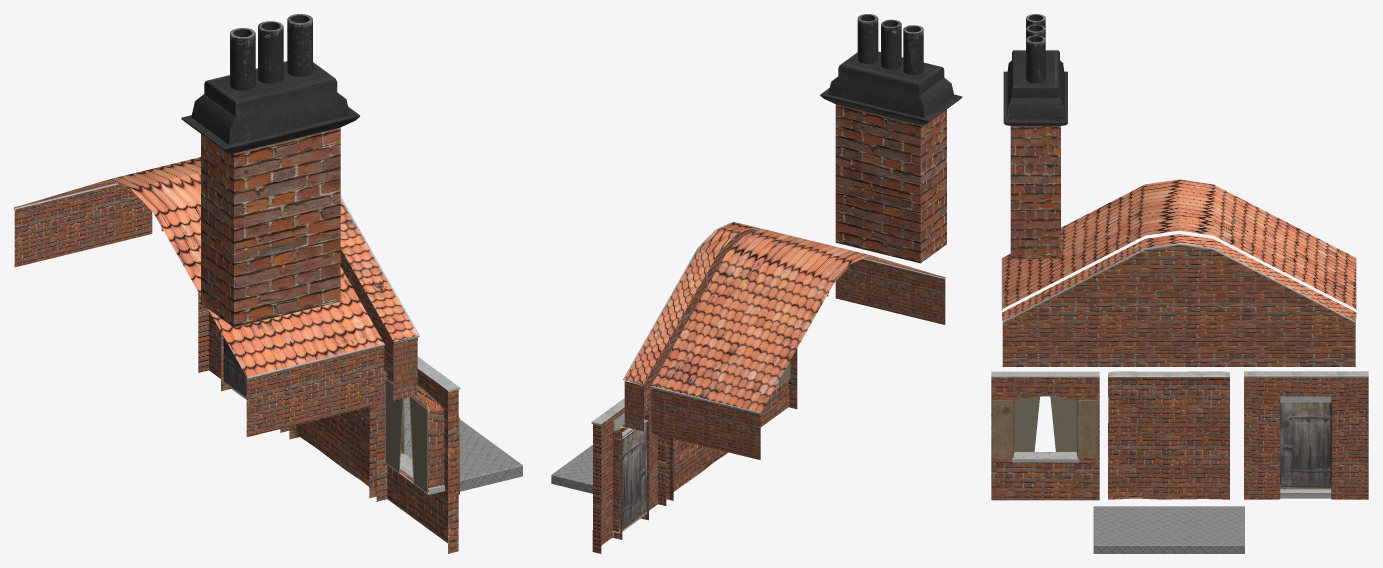
The model's file is modular_victorian_asset_pack.glb.
The picture shows the model from 3 angles, left to right: view 1: azimuth 30°, elevation 25°; view 2: azimuth 150°, elevation 25°; view 3: azimuth 270°, elevation 25°; orthographic projection. The views are drawn at different scales.
Parts seen in each view (by area): view 1: Chimney_chimney_0, ceiling_low_ceiling_0, wall_window_wall_window_mat_0, ceiling_end_ceiling_endmat_0, wall_low_wall_0, sidewalk_low_sidewalk_0, Door_overhead_wall_door_mat_0; view 2: ceiling_low_ceiling_0, Chimney_chimney_0, Door_overhead_wall_door_mat_0, ceiling_end_ceiling_endmat_0, wall_low_wall_0, wall_window_wall_window_mat_0, sidewalk_low_sidewalk_0; view 3: ceiling_end_ceiling_endmat_0, ceiling_low_ceiling_0, Door_overhead_wall_door_mat_0, wall_low_wall_0, wall_window_wall_window_mat_0, Chimney_chimney_0, sidewalk_low_sidewalk_0.
Part boxes in pixels (box(x1,y1,x2,y2)): Chimney_chimney_0: box(181, 14, 360, 327); ceiling_low_ceiling_0: box(14, 157, 384, 436); wall_window_wall_window_mat_0: box(376, 357, 460, 553); ceiling_end_ceiling_endmat_0: box(161, 196, 419, 400); wall_low_wall_0: box(289, 405, 376, 498); sidewalk_low_sidewalk_0: box(404, 397, 522, 491); Door_overhead_wall_door_mat_0: box(198, 292, 289, 432); ceiling_low_ceiling_0: box(650, 228, 945, 459); Chimney_chimney_0: box(820, 14, 962, 263); Door_overhead_wall_door_mat_0: box(591, 398, 666, 553); ceiling_end_ceiling_endmat_0: box(623, 222, 828, 431); wall_low_wall_0: box(666, 437, 728, 500); wall_window_wall_window_mat_0: box(760, 348, 797, 427); sidewalk_low_sidewalk_0: box(551, 445, 592, 493); ceiling_end_ceiling_endmat_0: box(1002, 234, 1356, 366); ceiling_low_ceiling_0: box(1001, 179, 1356, 310); Door_overhead_wall_door_mat_0: box(1244, 371, 1368, 499); wall_low_wall_0: box(1108, 371, 1229, 499); wall_window_wall_window_mat_0: box(991, 371, 1099, 500); Chimney_chimney_0: box(1003, 14, 1067, 258); sidewalk_low_sidewalk_0: box(1093, 506, 1244, 553).
Size of the model in its own units: 0.3316 by 0.4845 by 0.3969.
Materials: 7 (7 with a texture image).
